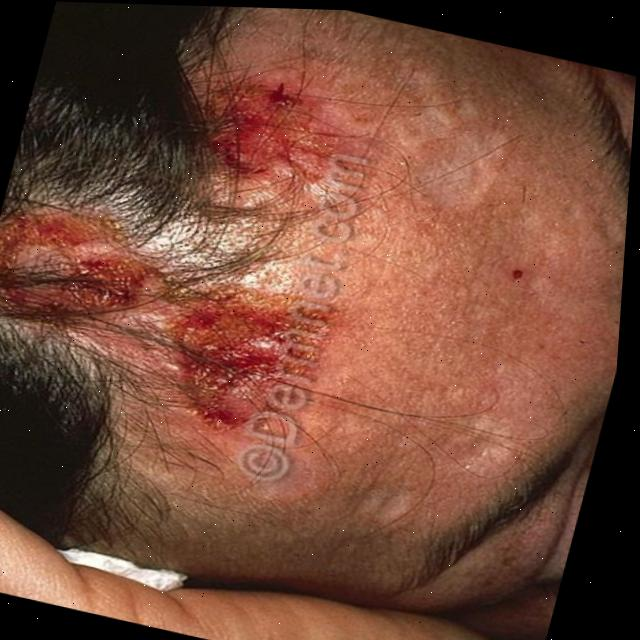Eczema: (0, 52, 345, 413)
